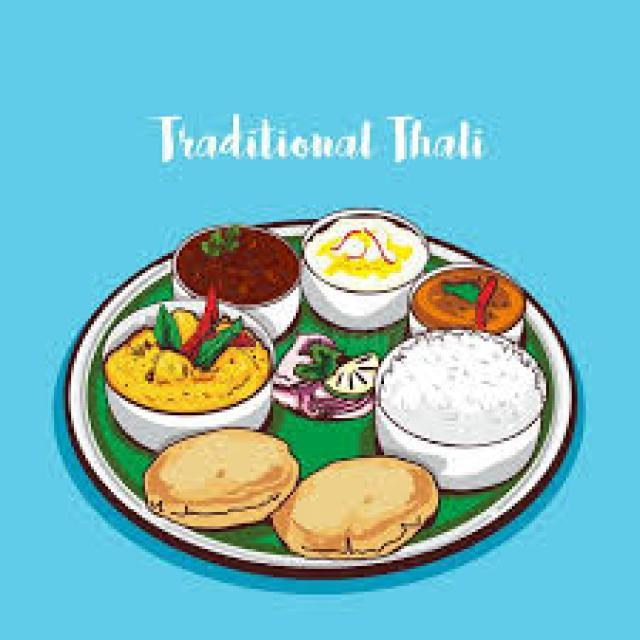dal: (101, 305, 262, 418)
rice: (374, 329, 546, 459)
sweet: (305, 209, 427, 300)
veg-fry: (94, 296, 270, 428), (399, 259, 536, 344), (174, 219, 298, 312)
